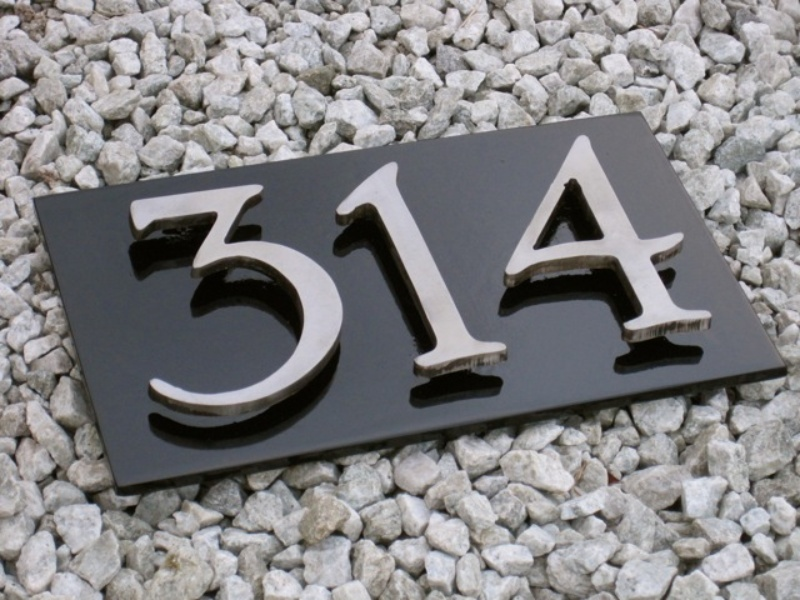text: (113, 124, 128, 438), (129, 124, 144, 438), (145, 124, 160, 438), (161, 124, 176, 438), (177, 124, 192, 438), (193, 124, 208, 438), (209, 124, 224, 438), (225, 124, 240, 438), (241, 124, 256, 438), (257, 124, 272, 438), (273, 124, 288, 438), (289, 124, 304, 438), (305, 124, 320, 438), (321, 124, 336, 438), (337, 124, 352, 438), (353, 124, 368, 438), (369, 124, 384, 438), (385, 124, 400, 438), (401, 124, 416, 438), (417, 124, 432, 438), (433, 124, 448, 438), (449, 124, 464, 438), (465, 124, 480, 438), (481, 124, 496, 438), (497, 124, 512, 438), (513, 124, 528, 438), (529, 124, 544, 438), (545, 124, 560, 438), (561, 124, 576, 438), (577, 124, 592, 438), (593, 124, 608, 438), (609, 124, 624, 438), (625, 124, 640, 438), (641, 124, 656, 438), (657, 124, 672, 438), (673, 124, 688, 438), (689, 124, 704, 438), (705, 124, 720, 438), (721, 124, 729, 438), (109, 124, 112, 438)
